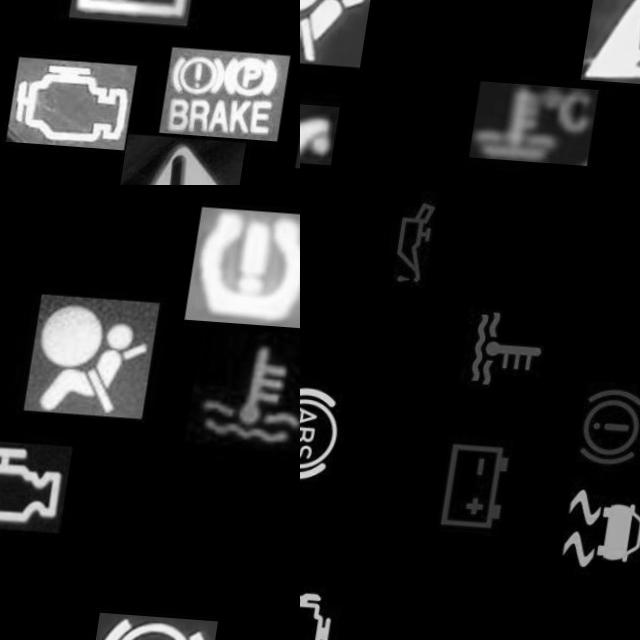Central Warning lamp: (129, 128, 261, 185), (589, 0, 640, 78)
Engine cooling system: (192, 323, 300, 448), (481, 75, 608, 157)
High Engine Coolant Temperature: (458, 291, 570, 395)
